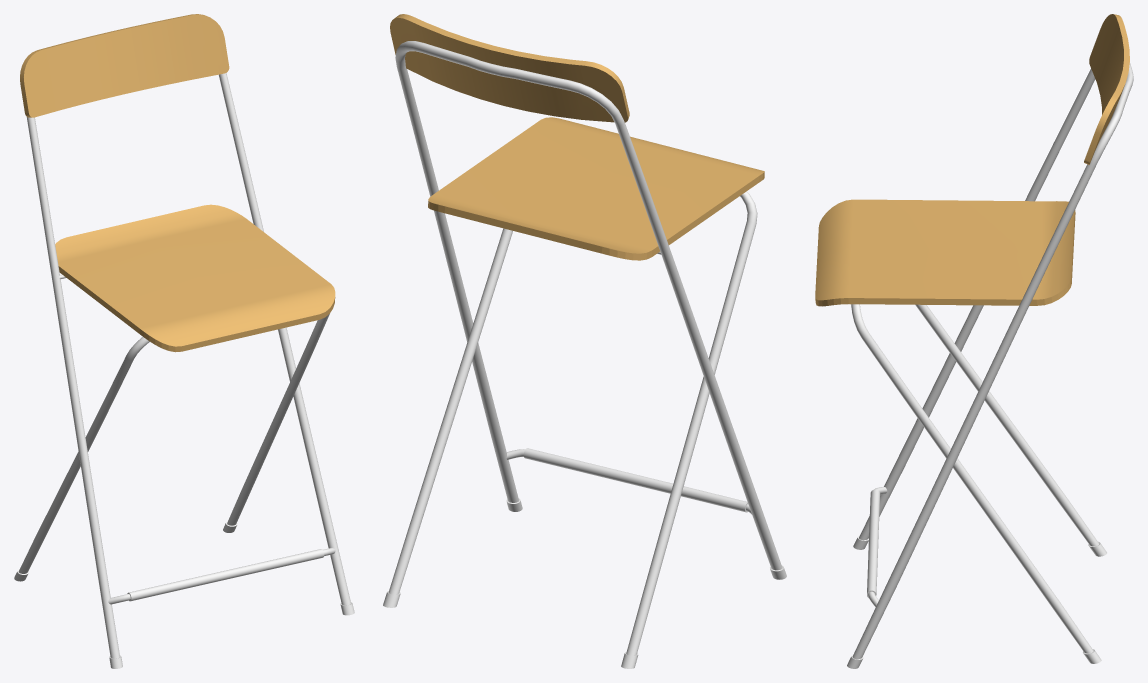
Rendered from chairchairchari.dae.
The picture shows the model from 3 angles, left to right: view 1: azimuth 30°, elevation 25°; view 2: azimuth 150°, elevation 25°; view 3: azimuth 270°, elevation 25°; orthographic projection. The views are drawn at different scales.
Parts seen in each view (by area): view 1: Group01, Loft03; view 2: Group01, Loft03; view 3: Group01, Loft03.
Part boxes in pixels (box(x1,y1,x2,y2)): Group01: box(20, 14, 335, 352); Loft03: box(14, 73, 354, 668); Group01: box(390, 14, 764, 260); Loft03: box(383, 41, 786, 668); Group01: box(815, 14, 1129, 306); Loft03: box(847, 62, 1133, 668).
Bounding box in the file's own units: 478 × 988 × 516.
